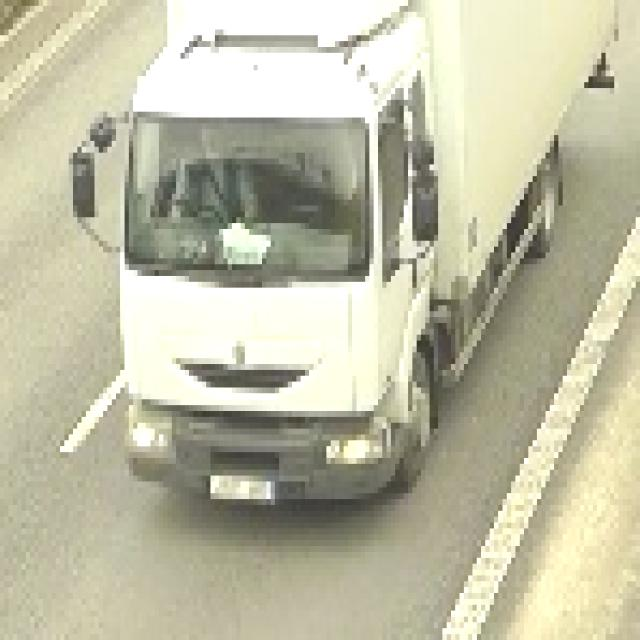truck: (70, 1, 615, 506)
